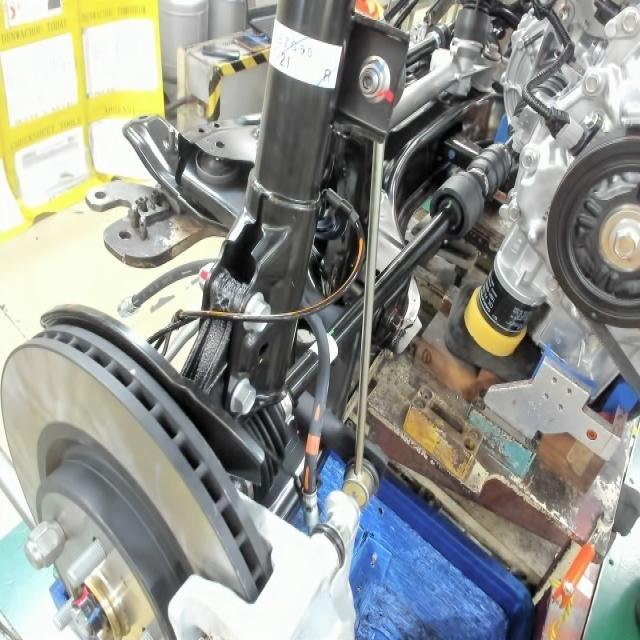Absorber RH-21: (275, 45, 300, 78)
Disc-HT: (26, 418, 204, 640)
Drive Shaft-PT: (309, 329, 341, 373)
